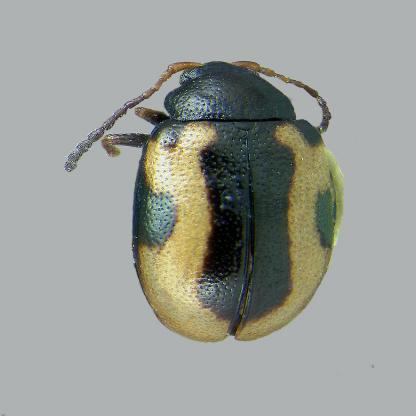beetle: (76, 55, 347, 355)
